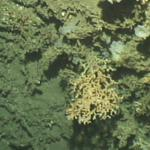alive: (3, 1, 143, 147)
